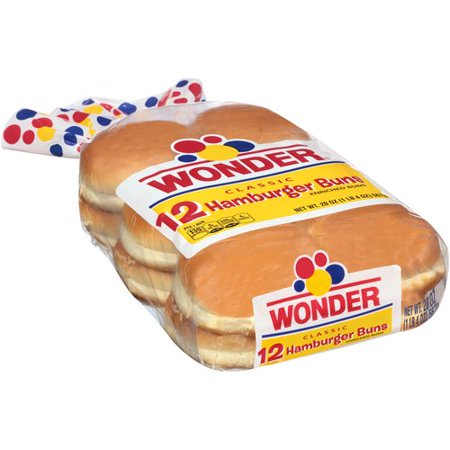hamburger_buns: (77, 92, 444, 367)
